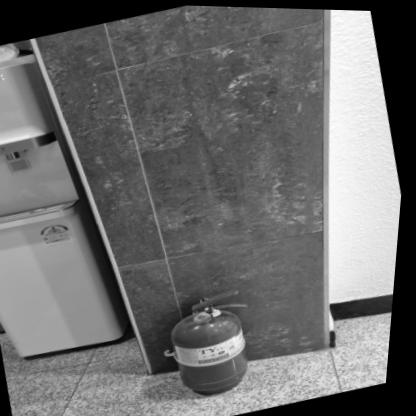FE: (162, 282, 272, 402)
